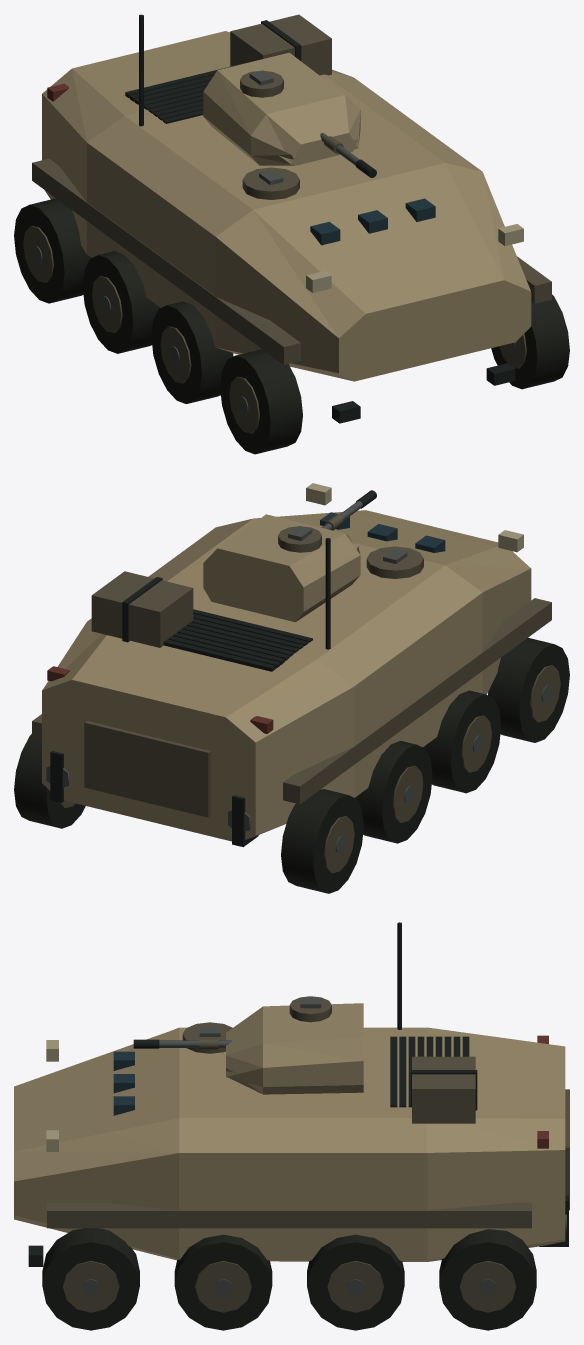
Rendered from apc-lod.glb.
3 views of the same model, one above another, from view 1: azimuth 30°, elevation 25°; view 2: azimuth 150°, elevation 25°; view 3: azimuth 270°, elevation 25° (orthographic). The views are drawn at different scales.
Parts seen in each view (by area): view 1: equipment (×3); view 2: equipment (×3); view 3: equipment (×3).
Part boxes in pixels (x1,y1,x2,y2): equipment (×3): [14, 14, 569, 454]; equipment (×3): [14, 483, 569, 893]; equipment (×3): [14, 922, 569, 1330].
Bounding box in the file's own units: 3.19 × 3.05 × 5.24.
